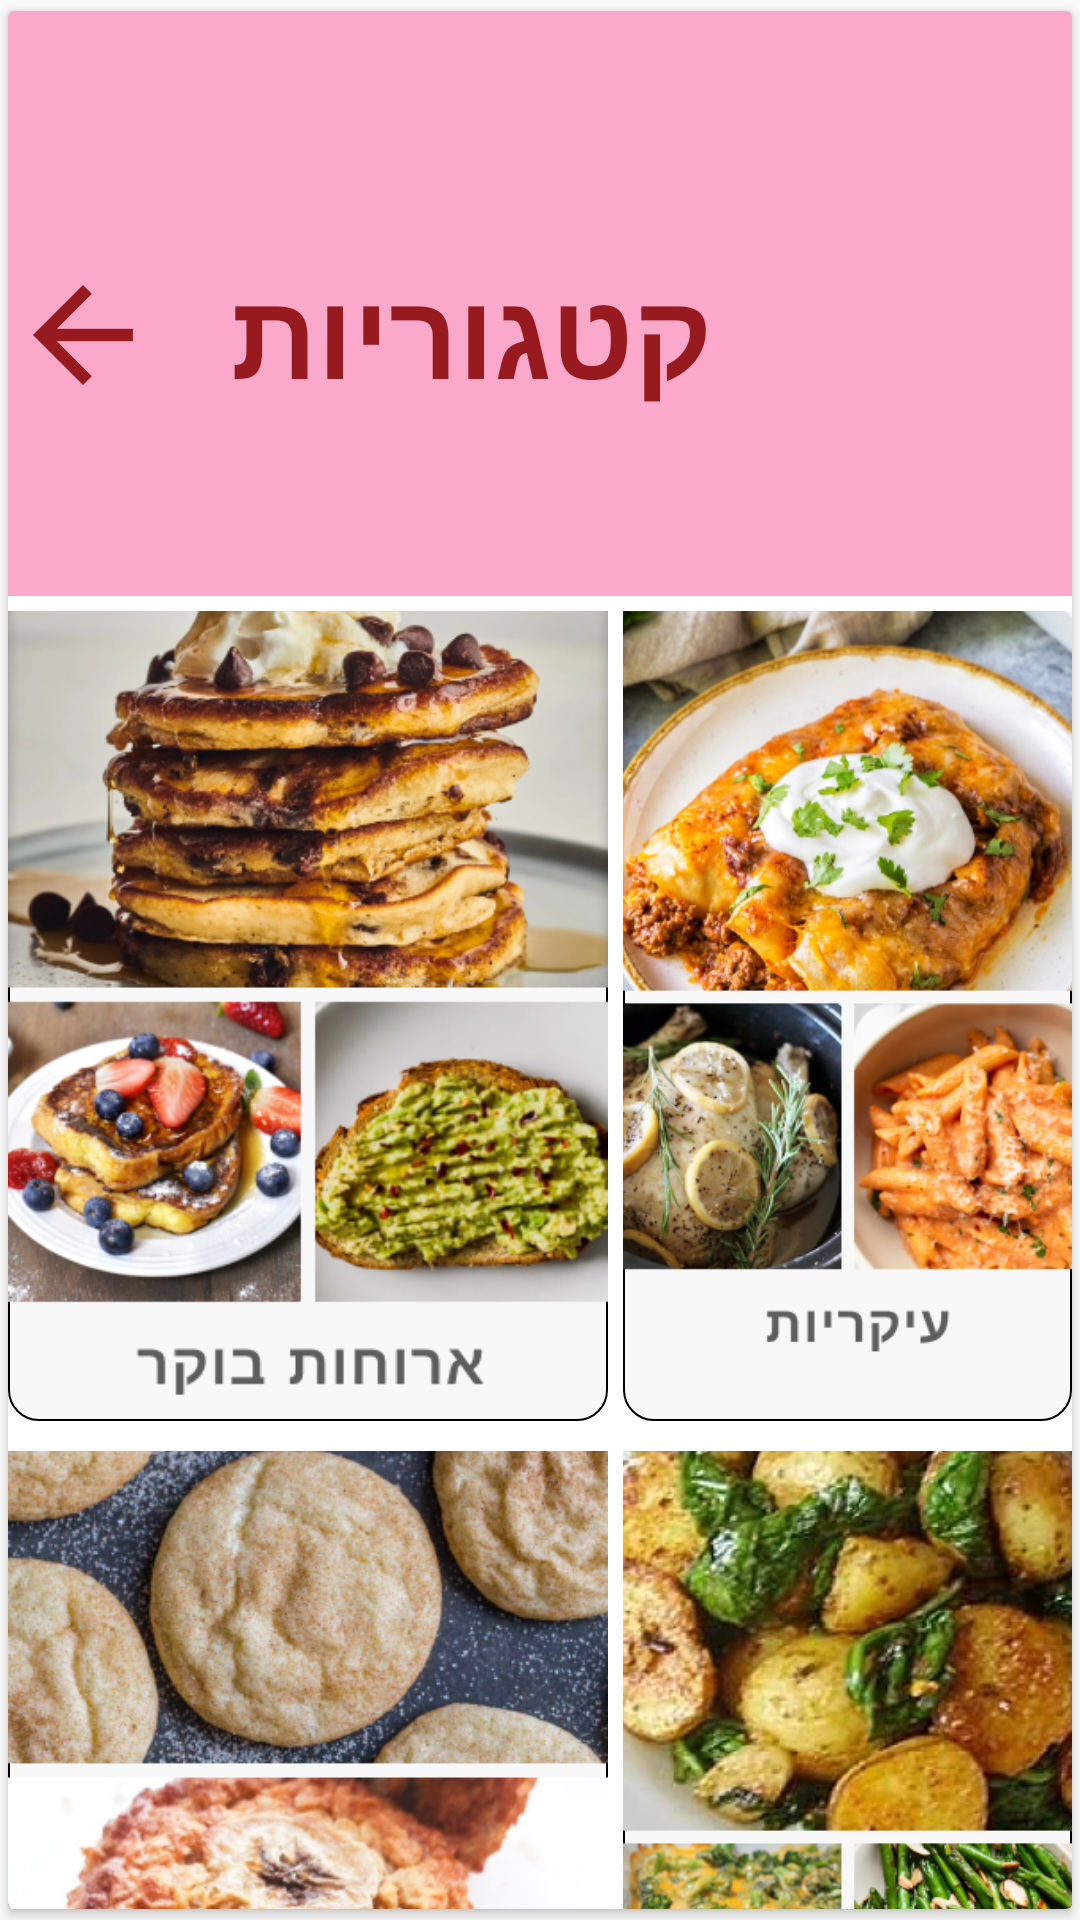

Icon bounding boxes for this 1080 x 1920 phone screenshot, format rect(x1, y1, x2, y2):
arrow back: rect(33, 285, 133, 385)
